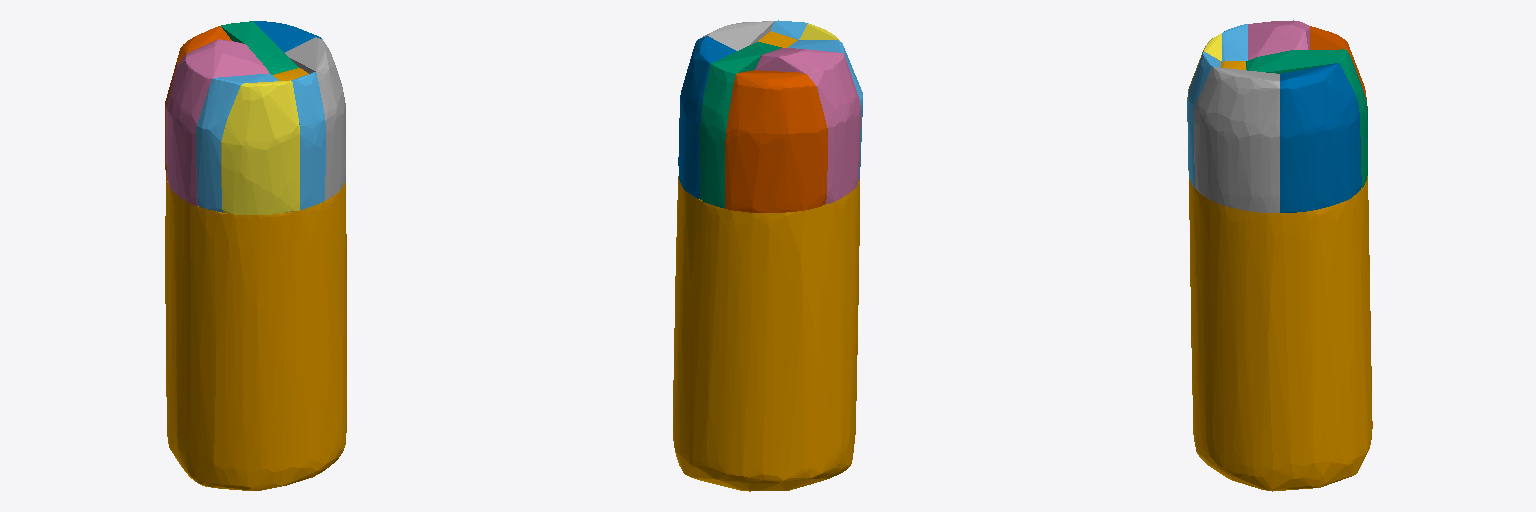
robot.urdf — root:
<?xml version='1.0' encoding='UTF-8'?>
<robot name="root">
  <link name="link_convex_piece_000.obj">
    <inertial>
      <origin xyz="0 0 0" rpy="0 0 0"/>
    </inertial>
    <visual>
      <origin xyz="0 0 0" rpy="0 0 0"/>
      <geometry>
        <mesh filename="meshes/convex_piece_000.obj" scale="1.0 1.0 1.0"/>
      </geometry>
    </visual>
    <collision>
      <origin xyz="0 0 0" rpy="0 0 0"/>
      <geometry>
        <mesh filename="meshes/convex_piece_000.obj" scale="1.0 1.0 1.0"/>
      </geometry>
    </collision>
  </link>
  <link name="link_convex_piece_001.obj">
    <inertial>
      <origin xyz="0 0 0" rpy="0 0 0"/>
    </inertial>
    <visual>
      <origin xyz="0 0 0" rpy="0 0 0"/>
      <geometry>
        <mesh filename="meshes/convex_piece_001.obj" scale="1.0 1.0 1.0"/>
      </geometry>
    </visual>
    <collision>
      <origin xyz="0 0 0" rpy="0 0 0"/>
      <geometry>
        <mesh filename="meshes/convex_piece_001.obj" scale="1.0 1.0 1.0"/>
      </geometry>
    </collision>
  </link>
  <link name="link_convex_piece_002.obj">
    <inertial>
      <origin xyz="0 0 0" rpy="0 0 0"/>
    </inertial>
    <visual>
      <origin xyz="0 0 0" rpy="0 0 0"/>
      <geometry>
        <mesh filename="meshes/convex_piece_002.obj" scale="1.0 1.0 1.0"/>
      </geometry>
    </visual>
    <collision>
      <origin xyz="0 0 0" rpy="0 0 0"/>
      <geometry>
        <mesh filename="meshes/convex_piece_002.obj" scale="1.0 1.0 1.0"/>
      </geometry>
    </collision>
  </link>
  <link name="link_convex_piece_003.obj">
    <inertial>
      <origin xyz="0 0 0" rpy="0 0 0"/>
    </inertial>
    <visual>
      <origin xyz="0 0 0" rpy="0 0 0"/>
      <geometry>
        <mesh filename="meshes/convex_piece_003.obj" scale="1.0 1.0 1.0"/>
      </geometry>
    </visual>
    <collision>
      <origin xyz="0 0 0" rpy="0 0 0"/>
      <geometry>
        <mesh filename="meshes/convex_piece_003.obj" scale="1.0 1.0 1.0"/>
      </geometry>
    </collision>
  </link>
  <link name="link_convex_piece_004.obj">
    <inertial>
      <origin xyz="0 0 0" rpy="0 0 0"/>
    </inertial>
    <visual>
      <origin xyz="0 0 0" rpy="0 0 0"/>
      <geometry>
        <mesh filename="meshes/convex_piece_004.obj" scale="1.0 1.0 1.0"/>
      </geometry>
    </visual>
    <collision>
      <origin xyz="0 0 0" rpy="0 0 0"/>
      <geometry>
        <mesh filename="meshes/convex_piece_004.obj" scale="1.0 1.0 1.0"/>
      </geometry>
    </collision>
  </link>
  <link name="link_convex_piece_005.obj">
    <inertial>
      <origin xyz="0 0 0" rpy="0 0 0"/>
    </inertial>
    <visual>
      <origin xyz="0 0 0" rpy="0 0 0"/>
      <geometry>
        <mesh filename="meshes/convex_piece_005.obj" scale="1.0 1.0 1.0"/>
      </geometry>
    </visual>
    <collision>
      <origin xyz="0 0 0" rpy="0 0 0"/>
      <geometry>
        <mesh filename="meshes/convex_piece_005.obj" scale="1.0 1.0 1.0"/>
      </geometry>
    </collision>
  </link>
  <link name="link_convex_piece_006.obj">
    <inertial>
      <origin xyz="0 0 0" rpy="0 0 0"/>
    </inertial>
    <visual>
      <origin xyz="0 0 0" rpy="0 0 0"/>
      <geometry>
        <mesh filename="meshes/convex_piece_006.obj" scale="1.0 1.0 1.0"/>
      </geometry>
    </visual>
    <collision>
      <origin xyz="0 0 0" rpy="0 0 0"/>
      <geometry>
        <mesh filename="meshes/convex_piece_006.obj" scale="1.0 1.0 1.0"/>
      </geometry>
    </collision>
  </link>
  <link name="link_convex_piece_007.obj">
    <inertial>
      <origin xyz="0 0 0" rpy="0 0 0"/>
    </inertial>
    <visual>
      <origin xyz="0 0 0" rpy="0 0 0"/>
      <geometry>
        <mesh filename="meshes/convex_piece_007.obj" scale="1.0 1.0 1.0"/>
      </geometry>
    </visual>
    <collision>
      <origin xyz="0 0 0" rpy="0 0 0"/>
      <geometry>
        <mesh filename="meshes/convex_piece_007.obj" scale="1.0 1.0 1.0"/>
      </geometry>
    </collision>
  </link>
  <link name="link_convex_piece_008.obj">
    <inertial>
      <origin xyz="0 0 0" rpy="0 0 0"/>
    </inertial>
    <visual>
      <origin xyz="0 0 0" rpy="0 0 0"/>
      <geometry>
        <mesh filename="meshes/convex_piece_008.obj" scale="1.0 1.0 1.0"/>
      </geometry>
    </visual>
    <collision>
      <origin xyz="0 0 0" rpy="0 0 0"/>
      <geometry>
        <mesh filename="meshes/convex_piece_008.obj" scale="1.0 1.0 1.0"/>
      </geometry>
    </collision>
  </link>
  <link name="link_convex_piece_009.obj">
    <inertial>
      <origin xyz="0 0 0" rpy="0 0 0"/>
    </inertial>
    <visual>
      <origin xyz="0 0 0" rpy="0 0 0"/>
      <geometry>
        <mesh filename="meshes/convex_piece_009.obj" scale="1.0 1.0 1.0"/>
      </geometry>
    </visual>
    <collision>
      <origin xyz="0 0 0" rpy="0 0 0"/>
      <geometry>
        <mesh filename="meshes/convex_piece_009.obj" scale="1.0 1.0 1.0"/>
      </geometry>
    </collision>
  </link>
  <joint name="link_convex_piece_001.obj_joint" type="fixed">
    <origin xyz="0 0 0" rpy="0 0 0"/>
    <parent link="link_convex_piece_000.obj"/>
    <child link="link_convex_piece_001.obj"/>
  </joint>
  <joint name="link_convex_piece_002.obj_joint" type="fixed">
    <origin xyz="0 0 0" rpy="0 0 0"/>
    <parent link="link_convex_piece_000.obj"/>
    <child link="link_convex_piece_002.obj"/>
  </joint>
  <joint name="link_convex_piece_003.obj_joint" type="fixed">
    <origin xyz="0 0 0" rpy="0 0 0"/>
    <parent link="link_convex_piece_000.obj"/>
    <child link="link_convex_piece_003.obj"/>
  </joint>
  <joint name="link_convex_piece_004.obj_joint" type="fixed">
    <origin xyz="0 0 0" rpy="0 0 0"/>
    <parent link="link_convex_piece_000.obj"/>
    <child link="link_convex_piece_004.obj"/>
  </joint>
  <joint name="link_convex_piece_005.obj_joint" type="fixed">
    <origin xyz="0 0 0" rpy="0 0 0"/>
    <parent link="link_convex_piece_000.obj"/>
    <child link="link_convex_piece_005.obj"/>
  </joint>
  <joint name="link_convex_piece_006.obj_joint" type="fixed">
    <origin xyz="0 0 0" rpy="0 0 0"/>
    <parent link="link_convex_piece_000.obj"/>
    <child link="link_convex_piece_006.obj"/>
  </joint>
  <joint name="link_convex_piece_007.obj_joint" type="fixed">
    <origin xyz="0 0 0" rpy="0 0 0"/>
    <parent link="link_convex_piece_000.obj"/>
    <child link="link_convex_piece_007.obj"/>
  </joint>
  <joint name="link_convex_piece_008.obj_joint" type="fixed">
    <origin xyz="0 0 0" rpy="0 0 0"/>
    <parent link="link_convex_piece_000.obj"/>
    <child link="link_convex_piece_008.obj"/>
  </joint>
  <joint name="link_convex_piece_009.obj_joint" type="fixed">
    <origin xyz="0 0 0" rpy="0 0 0"/>
    <parent link="link_convex_piece_000.obj"/>
    <child link="link_convex_piece_009.obj"/>
  </joint>
</robot>

--- What the picture shows (computed from the rendered views, not written in the file) ---
The picture shows the robot from 3 angles, left to right: view 1: azimuth 30°, elevation 25°; view 2: azimuth 150°, elevation 25°; view 3: azimuth 270°, elevation 25°; orthographic projection.
Model root with 10 links and 9 joints (9 fixed), rooted at link_convex_piece_000.obj, posed every joint at zero.
Visible links, largest first — view 1: link_convex_piece_000.obj, link_convex_piece_003.obj, link_convex_piece_006.obj, link_convex_piece_001.obj, link_convex_piece_007.obj, link_convex_piece_009.obj, link_convex_piece_002.obj, link_convex_piece_004.obj, link_convex_piece_005.obj; view 2: link_convex_piece_000.obj, link_convex_piece_005.obj, link_convex_piece_006.obj, link_convex_piece_002.obj, link_convex_piece_004.obj, link_convex_piece_007.obj, link_convex_piece_001.obj; view 3: link_convex_piece_000.obj, link_convex_piece_007.obj, link_convex_piece_004.obj, link_convex_piece_002.obj, link_convex_piece_006.obj, link_convex_piece_009.obj, link_convex_piece_001.obj, link_convex_piece_005.obj.
Boxes of the visible links, x1,y1,x2,y2 form: link_convex_piece_000.obj: (165,179,346,490); link_convex_piece_003.obj: (221,80,299,214); link_convex_piece_006.obj: (166,39,269,205); link_convex_piece_001.obj: (196,74,278,212); link_convex_piece_007.obj: (285,37,345,200); link_convex_piece_009.obj: (291,72,325,209); link_convex_piece_002.obj: (221,21,298,74); link_convex_piece_004.obj: (253,21,321,52); link_convex_piece_005.obj: (165,26,231,180); link_convex_piece_000.obj: (673,176,859,491); link_convex_piece_005.obj: (725,70,827,212); link_convex_piece_006.obj: (755,48,860,204); link_convex_piece_002.obj: (700,42,781,208); link_convex_piece_004.obj: (678,36,736,198); link_convex_piece_007.obj: (702,21,774,50); link_convex_piece_001.obj: (788,40,862,178); link_convex_piece_000.obj: (1189,176,1372,491); link_convex_piece_007.obj: (1194,67,1279,212); link_convex_piece_004.obj: (1280,63,1361,212); link_convex_piece_002.obj: (1246,49,1367,187); link_convex_piece_006.obj: (1248,20,1309,59); link_convex_piece_009.obj: (1187,52,1220,187); link_convex_piece_001.obj: (1222,24,1247,61); link_convex_piece_005.obj: (1310,26,1367,107).
Bounding box of the posed robot: 0.0667 × 0.067 × 0.1677 m (x, y, z).
10 mesh visuals loaded from 10 distinct referenced files (10 OBJ).
